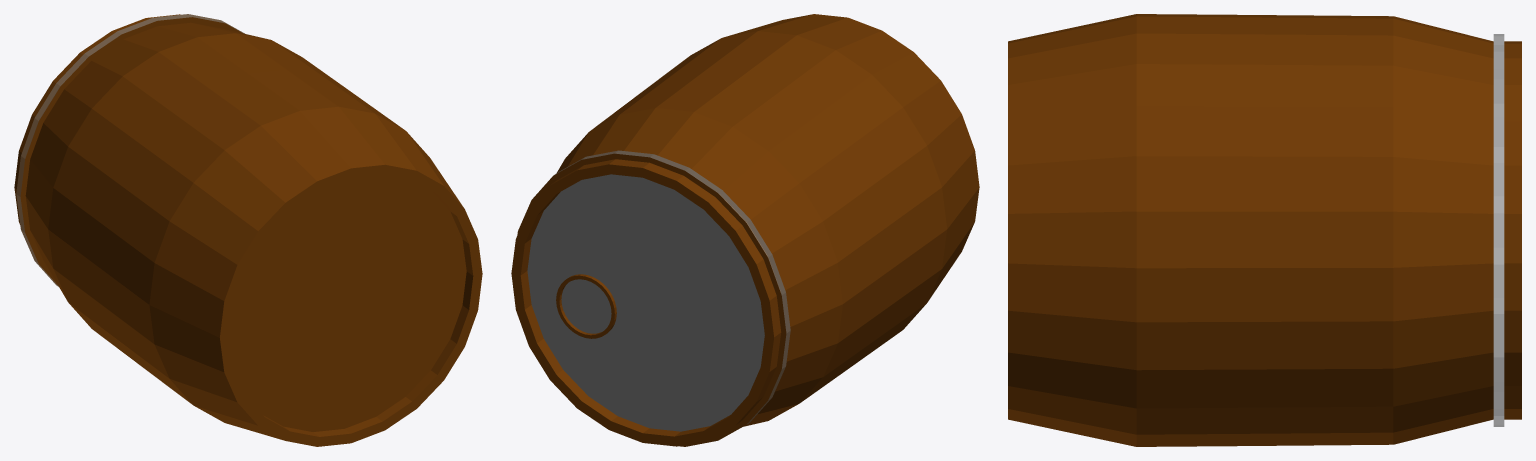
The model's file is Barrel.fbx.
The picture shows the model from 3 angles, left to right: view 1: azimuth 30°, elevation 25°; view 2: azimuth 150°, elevation 25°; view 3: azimuth 270°, elevation 25°; orthographic projection. The views are drawn at different scales.
Parts seen in each view (by area): view 1: Cylinder; view 2: Cylinder; view 3: Cylinder.
Part boxes in pixels (x1,y1,x2,y2): Cylinder: (14,14,482,446); Cylinder: (511,14,979,446); Cylinder: (1008,14,1521,446).
Bounding box in the file's own units: 229 × 229 × 271.
